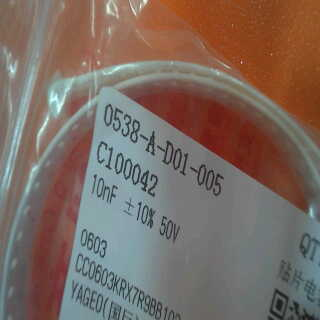10nF: (82, 171, 123, 208)
